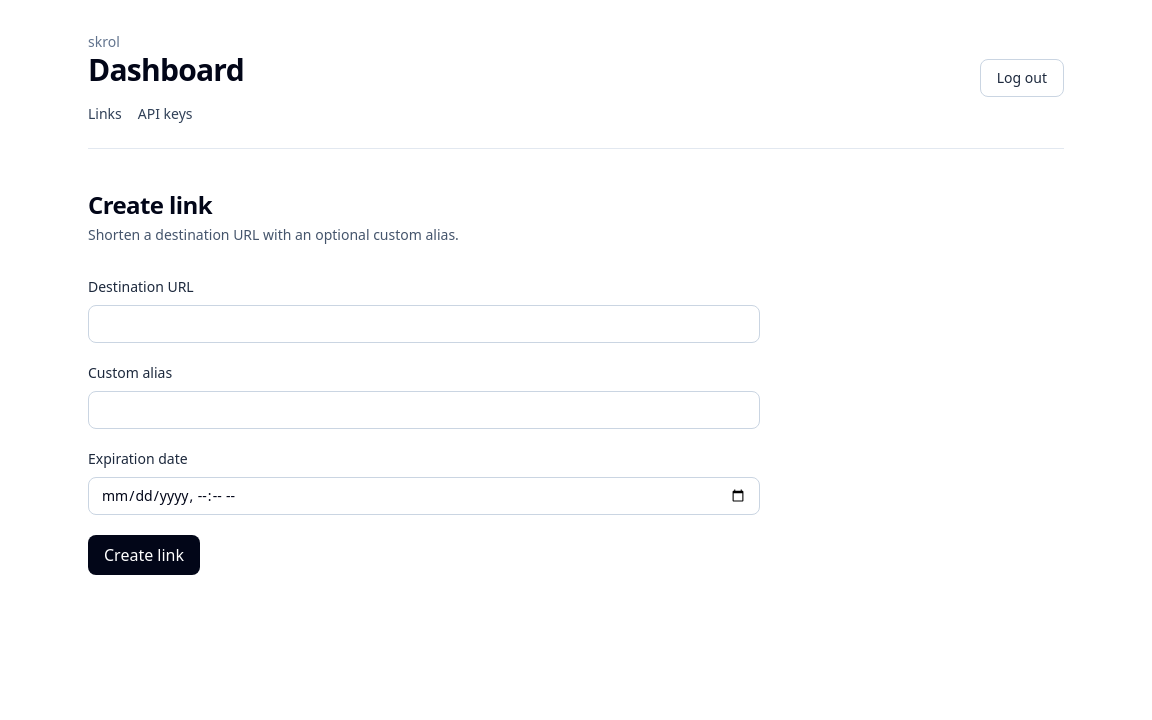
Scenario: dashboard links pages › maps create validation errors from the API
The width and height of the screenshot is (1152, 720).
Type "https://example.com/docs" into the field labelled "Destination URL" at (424, 324), box x1=88 y1=305 x2=760 y2=343
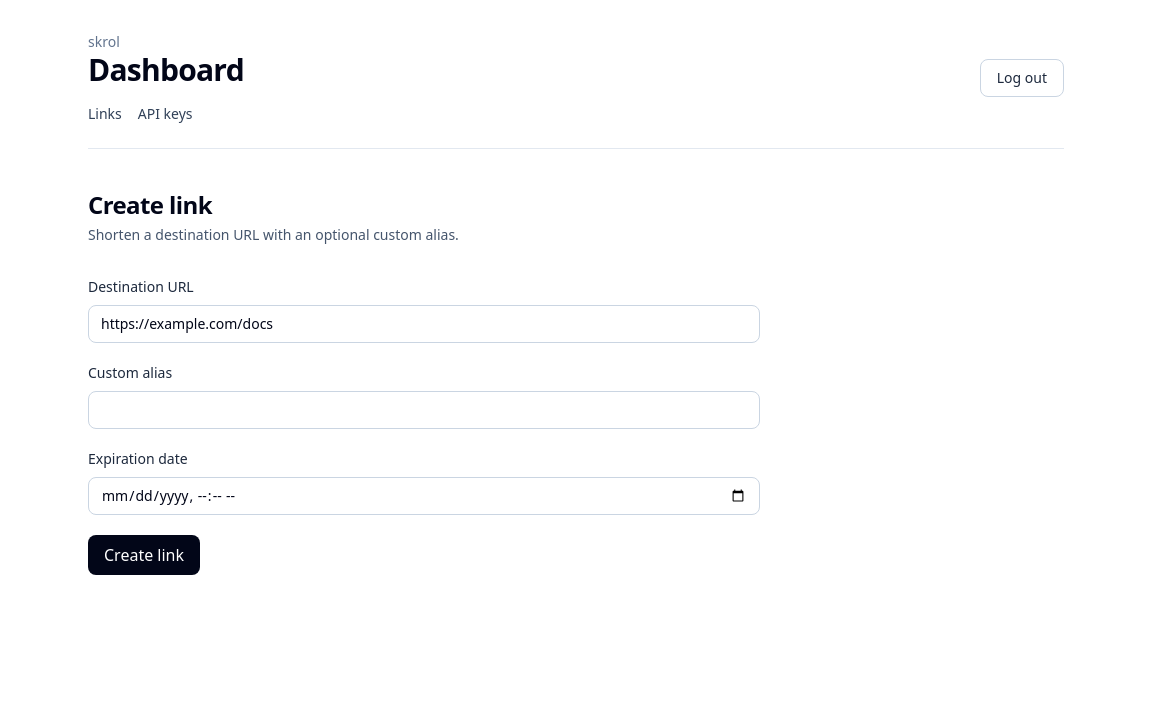
Type "NO" into the field labelled "Custom alias" at (424, 410), box x1=88 y1=391 x2=760 y2=429
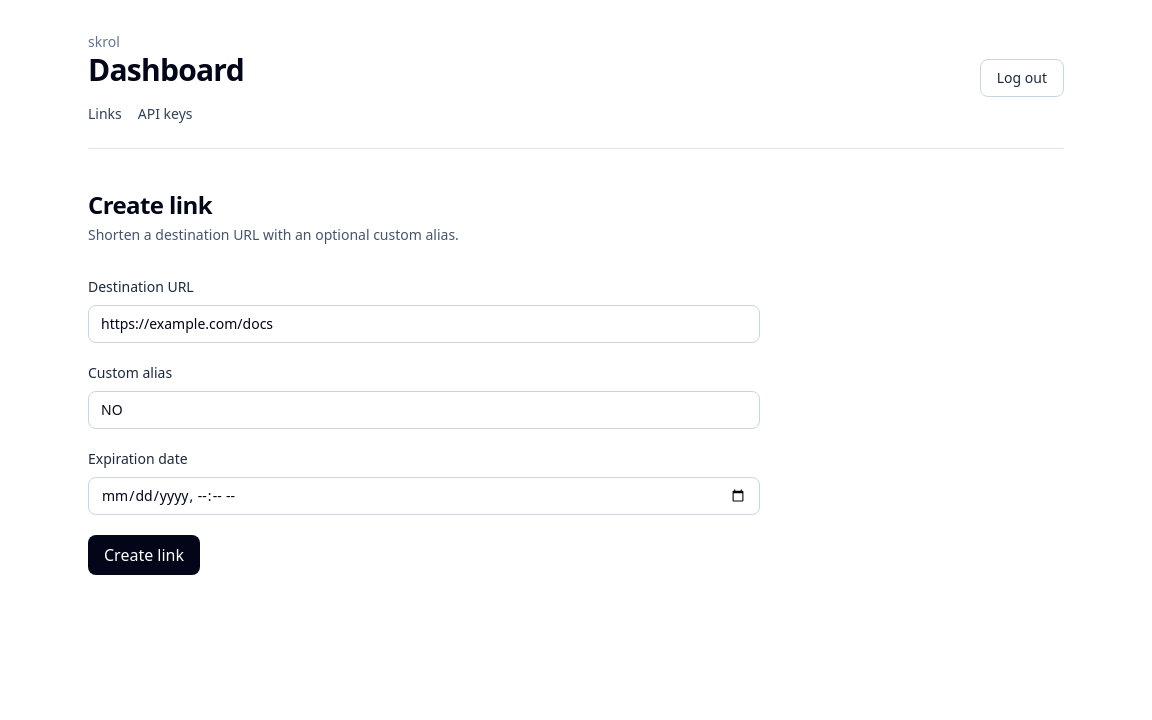
Click the button "Create link" at (144, 555), box x1=88 y1=535 x2=200 y2=575
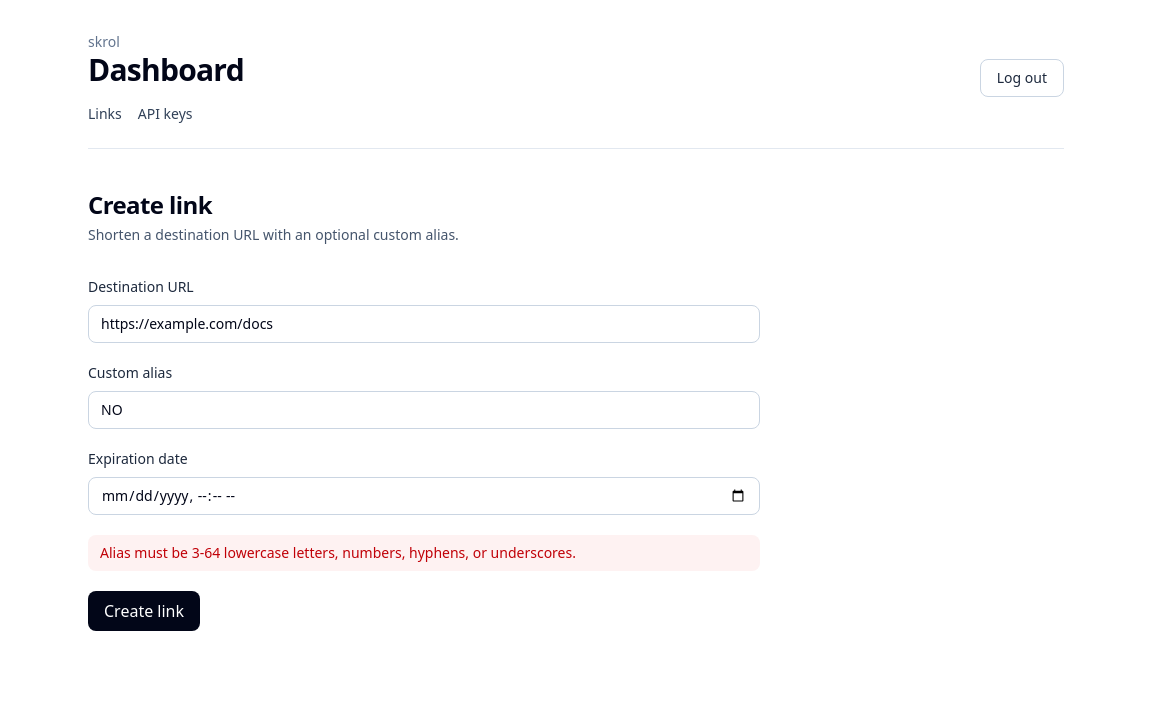
Check: the message shows "Alias must be 3-64 lowercase", box x1=100 y1=543 x2=576 y2=562
